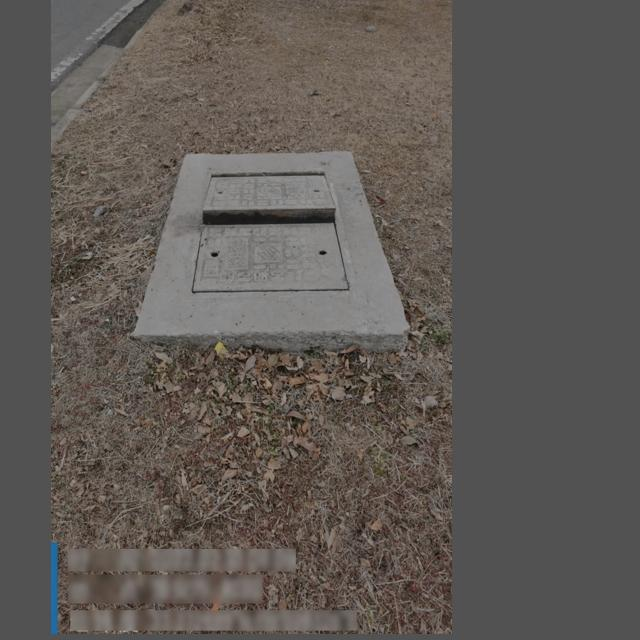uncovered: (184, 169, 354, 298)
